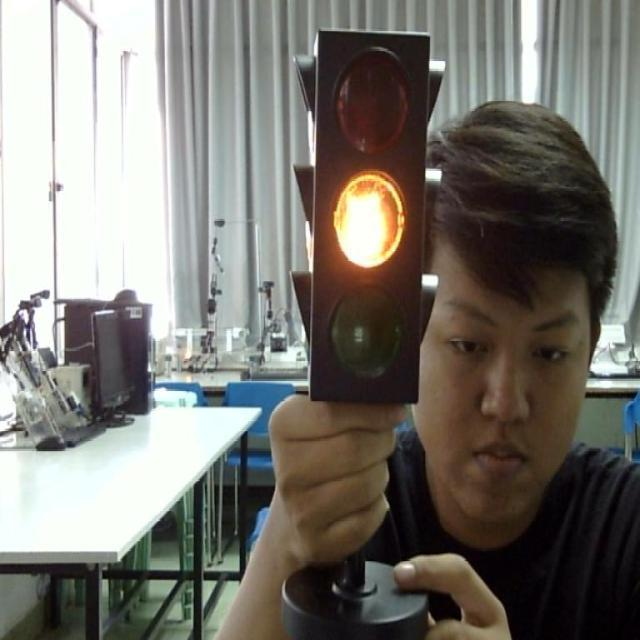yellow_light: (298, 28, 428, 400)
